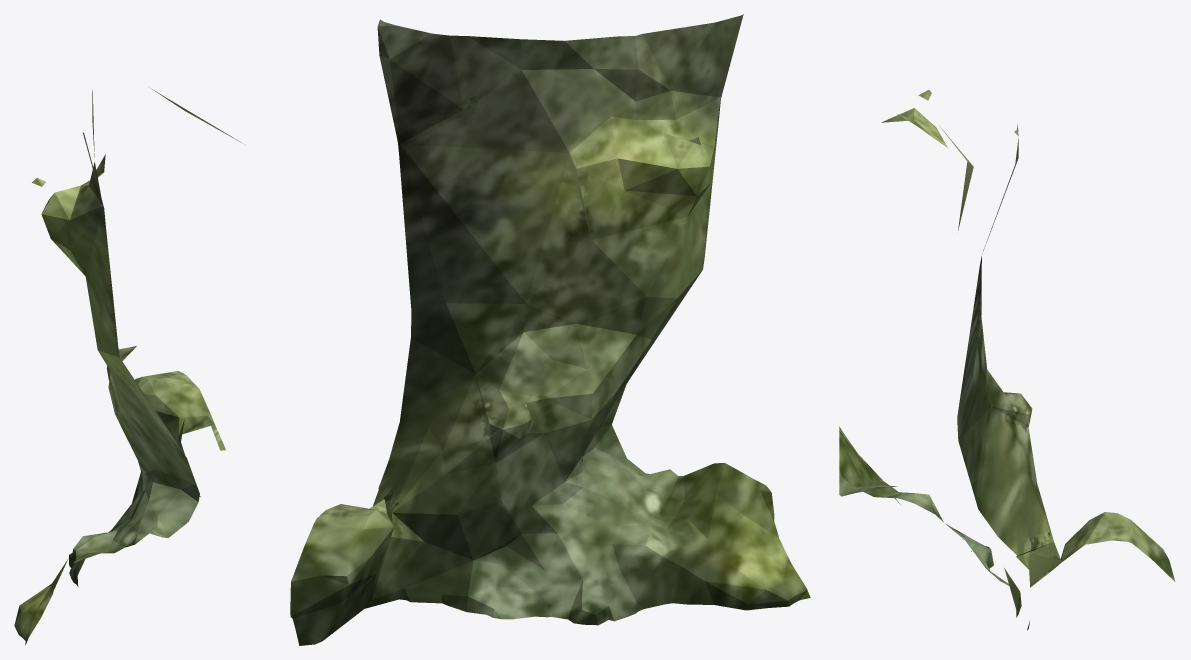
3 renders of one model, left to right at view 1: azimuth 30°, elevation 25°; view 2: azimuth 150°, elevation 25°; view 3: azimuth 270°, elevation 25°, orthographic. The views are drawn at different scales.
Bounding box in the file's own units: 1.82 × 2.95 × 1.76.
2 materials, 2 textured.
